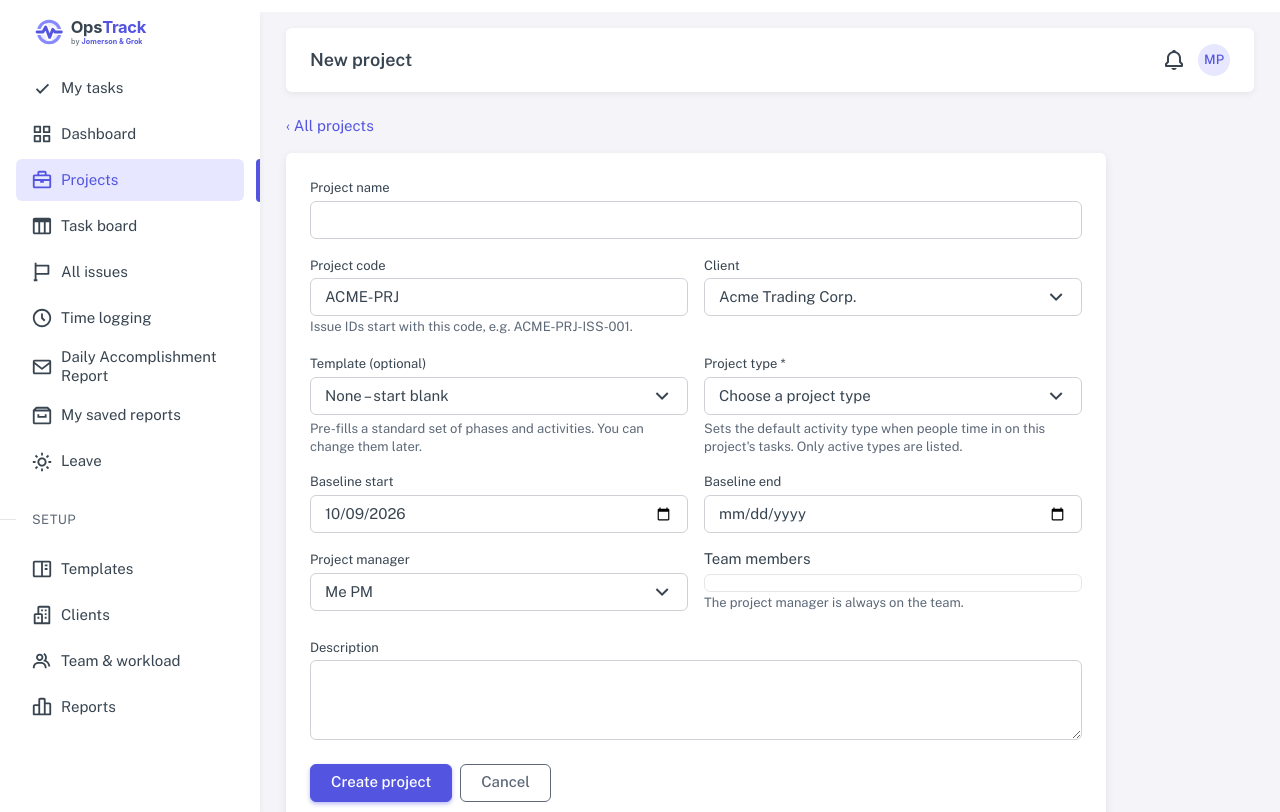
Test case: FR-PTY-02/03 project information › New project: Project type is required ("Choose a project type.")
Click the button "Create project" at (381, 783), box [310,764,452,802]
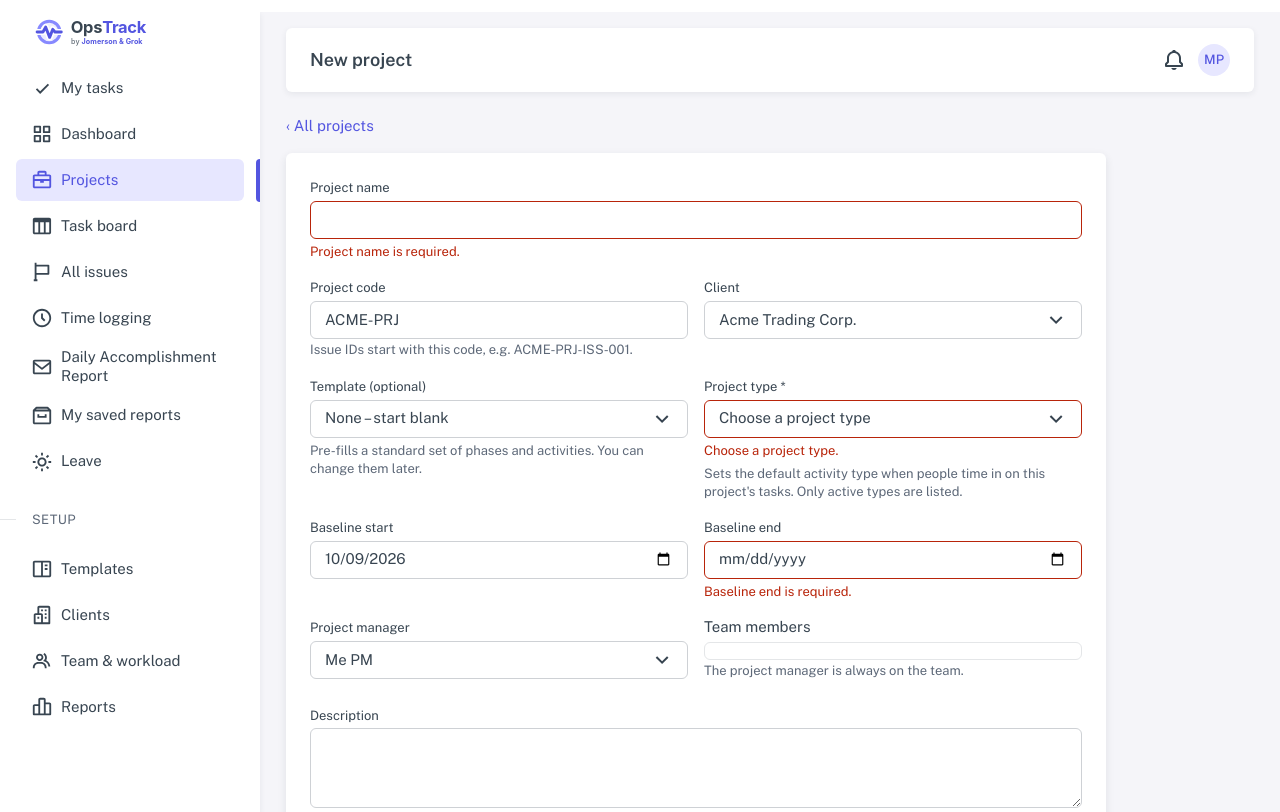
Now the text "Choose a project type." is shown, box [704,443,838,458]
